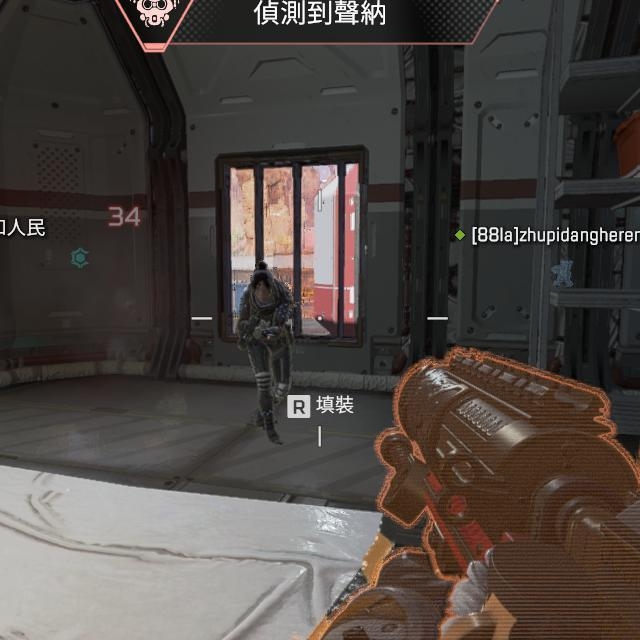avatar: (233, 260, 297, 447)
